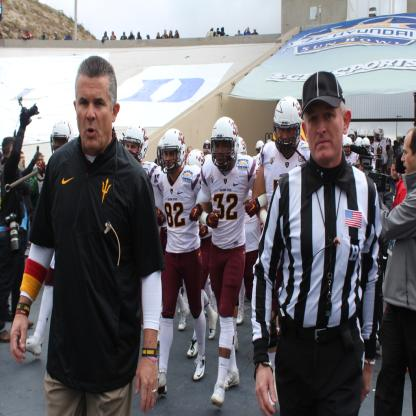Helmet: (208, 121, 245, 173), (273, 96, 302, 154), (344, 123, 392, 153), (157, 128, 186, 174), (121, 122, 147, 162), (49, 116, 75, 154), (186, 148, 206, 170), (237, 134, 247, 155), (254, 142, 262, 158)
